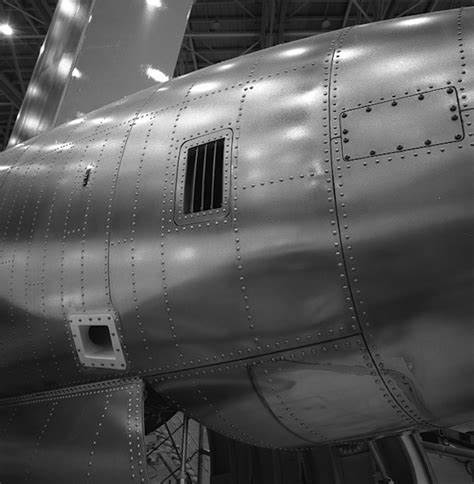bolt: (424, 140, 432, 147), (450, 105, 457, 113), (446, 87, 453, 95), (455, 134, 462, 141), (452, 115, 459, 122), (418, 95, 425, 102), (342, 129, 349, 135), (343, 138, 349, 144), (370, 150, 376, 156), (397, 145, 403, 151), (365, 108, 372, 113), (392, 101, 397, 107), (341, 114, 347, 119), (345, 155, 350, 160)
rivet: (320, 345, 328, 352), (332, 344, 340, 351), (364, 321, 371, 328), (378, 362, 384, 369), (270, 356, 276, 363), (360, 347, 367, 353), (240, 286, 247, 292), (327, 208, 334, 214), (467, 132, 473, 138), (201, 369, 207, 375), (289, 353, 295, 359), (366, 363, 372, 369), (237, 265, 243, 271), (253, 337, 259, 343), (284, 339, 290, 345), (295, 337, 301, 343), (338, 182, 344, 188), (147, 357, 154, 362), (367, 333, 374, 338), (344, 341, 351, 346), (363, 356, 370, 361), (355, 340, 362, 345), (249, 324, 256, 329), (306, 336, 313, 341), (327, 330, 334, 335), (350, 325, 357, 330), (352, 279, 359, 284), (387, 380, 393, 385), (382, 394, 388, 399), (466, 122, 472, 127), (445, 81, 451, 86), (415, 89, 421, 94), (141, 478, 146, 484), (251, 361, 256, 367), (186, 373, 192, 378), (371, 371, 377, 376), (280, 355, 285, 361), (301, 351, 306, 357), (310, 349, 316, 354), (182, 361, 187, 367), (439, 148, 445, 153), (278, 178, 284, 183), (239, 277, 245, 282), (244, 295, 249, 301), (265, 344, 271, 349), (256, 347, 262, 352), (317, 332, 323, 337), (339, 327, 345, 332), (339, 274, 345, 279), (337, 263, 343, 268), (347, 246, 353, 251), (345, 235, 351, 240), (342, 213, 348, 218), (342, 286, 349, 290), (145, 346, 150, 351), (391, 94, 396, 99), (356, 103, 361, 108), (128, 434, 133, 439), (130, 456, 135, 461), (138, 460, 143, 465), (130, 465, 135, 470), (139, 469, 144, 474), (132, 473, 137, 478), (195, 371, 200, 376), (209, 368, 214, 373), (217, 367, 222, 372), (161, 377, 166, 382), (154, 378, 159, 383), (247, 348, 252, 353), (229, 352, 234, 357), (212, 355, 217, 360), (161, 209, 166, 214), (163, 285, 168, 290), (196, 358, 201, 363), (166, 307, 171, 312), (168, 317, 173, 322), (171, 326, 176, 331), (172, 334, 177, 339), (323, 140, 328, 145), (400, 155, 405, 160), (388, 157, 393, 162), (234, 208, 239, 213), (260, 181, 265, 186), (251, 183, 256, 188), (235, 238, 240, 243), (235, 247, 240, 252), (237, 255, 242, 260), (246, 305, 251, 310), (248, 315, 253, 320), (275, 342, 280, 347), (363, 311, 368, 316), (351, 314, 356, 319), (346, 298, 351, 303), (326, 178, 331, 183), (327, 188, 332, 193), (328, 197, 333, 202), (335, 252, 340, 257), (334, 242, 339, 247), (332, 231, 337, 236), (331, 221, 336, 226), (344, 225, 349, 230), (340, 192, 345, 197), (457, 80, 463, 84), (459, 88, 465, 92), (470, 142, 474, 148), (221, 353, 225, 359), (351, 268, 357, 272), (401, 400, 405, 405), (392, 404, 396, 409), (388, 400, 393, 404), (461, 96, 466, 100), (465, 114, 470, 118), (428, 86, 433, 90), (404, 92, 409, 96), (379, 97, 384, 101), (367, 100, 372, 104), (135, 416, 140, 420), (135, 430, 140, 434), (136, 436, 140, 441), (137, 444, 142, 448), (130, 448, 134, 453), (137, 452, 142, 456), (181, 374, 185, 379), (174, 375, 178, 380), (168, 376, 172, 381), (225, 367, 230, 371), (375, 380, 380, 384), (238, 350, 242, 355), (204, 358, 209, 362), (223, 208, 227, 213), (215, 210, 220, 214), (196, 213, 200, 218), (163, 200, 167, 205), (161, 233, 165, 238), (161, 243, 165, 248), (161, 251, 165, 256), (175, 343, 179, 348), (235, 136, 240, 140), (169, 209, 173, 214), (182, 227, 187, 231), (323, 133, 328, 137), (332, 117, 337, 121), (457, 145, 462, 149), (426, 150, 431, 154), (413, 153, 418, 157), (234, 186, 238, 191), (234, 229, 239, 233), (348, 306, 353, 310), (359, 301, 364, 305), (356, 291, 361, 295), (375, 160, 380, 164), (337, 167, 342, 171), (349, 257, 354, 261), (324, 169, 329, 173), (341, 203, 345, 208), (405, 406, 409, 410), (397, 410, 401, 414), (392, 388, 396, 392), (463, 104, 467, 108), (341, 107, 345, 111), (136, 398, 140, 402), (135, 410, 139, 414), (136, 423, 140, 427), (128, 421, 132, 425), (128, 415, 132, 419), (129, 399, 133, 403), (129, 392, 133, 396), (128, 428, 132, 432), (129, 442, 133, 446), (324, 92, 328, 96), (323, 100, 327, 104), (332, 103, 336, 107), (178, 217, 182, 221), (189, 215, 193, 219), (203, 213, 207, 217), (209, 211, 213, 215), (184, 216, 188, 220), (165, 179, 169, 183), (164, 187, 168, 191), (163, 195, 167, 199), (162, 218, 166, 222), (161, 226, 165, 230), (161, 261, 165, 265), (162, 269, 166, 273), (162, 276, 166, 280), (190, 361, 194, 365), (164, 292, 168, 296), (165, 300, 169, 304), (179, 354, 183, 358), (235, 146, 239, 150), (234, 155, 238, 159), (234, 176, 238, 180), (170, 181, 174, 185), (170, 200, 174, 204), (223, 220, 227, 224), (206, 223, 210, 227), (175, 228, 179, 232), (323, 108, 327, 112), (333, 109, 337, 113), (334, 133, 338, 137), (334, 141, 338, 145), (234, 197, 238, 201), (270, 180, 274, 184), (242, 186, 246, 190), (233, 218, 237, 222), (363, 162, 367, 166), (347, 165, 351, 169), (290, 177, 294, 181), (310, 173, 314, 177), (335, 149, 339, 153), (339, 175, 343, 179), (332, 88, 337, 91), (300, 176, 305, 179), (324, 160, 329, 163), (137, 391, 140, 395), (136, 404, 139, 408), (130, 403, 133, 407), (225, 202, 228, 206), (333, 96, 337, 99), (236, 128, 240, 131), (235, 166, 238, 170), (171, 191, 174, 195), (216, 221, 219, 225), (198, 225, 202, 228), (190, 226, 194, 229), (168, 229, 171, 233), (323, 125, 327, 128), (334, 126, 337, 130), (336, 159, 340, 162), (324, 151, 328, 154), (130, 409, 133, 412), (226, 134, 229, 137), (227, 138, 230, 141), (224, 197, 227, 200), (226, 145, 229, 148), (226, 151, 229, 154), (226, 158, 229, 161), (225, 164, 228, 167), (225, 170, 228, 173), (225, 176, 228, 179), (225, 183, 228, 186), (225, 190, 228, 193), (174, 156, 177, 159), (173, 165, 176, 168), (172, 174, 175, 177), (166, 173, 169, 176), (169, 220, 172, 223), (323, 117, 326, 120), (168, 153, 171, 155), (166, 167, 169, 169), (171, 146, 173, 148), (176, 149, 178, 151), (168, 160, 170, 162)
